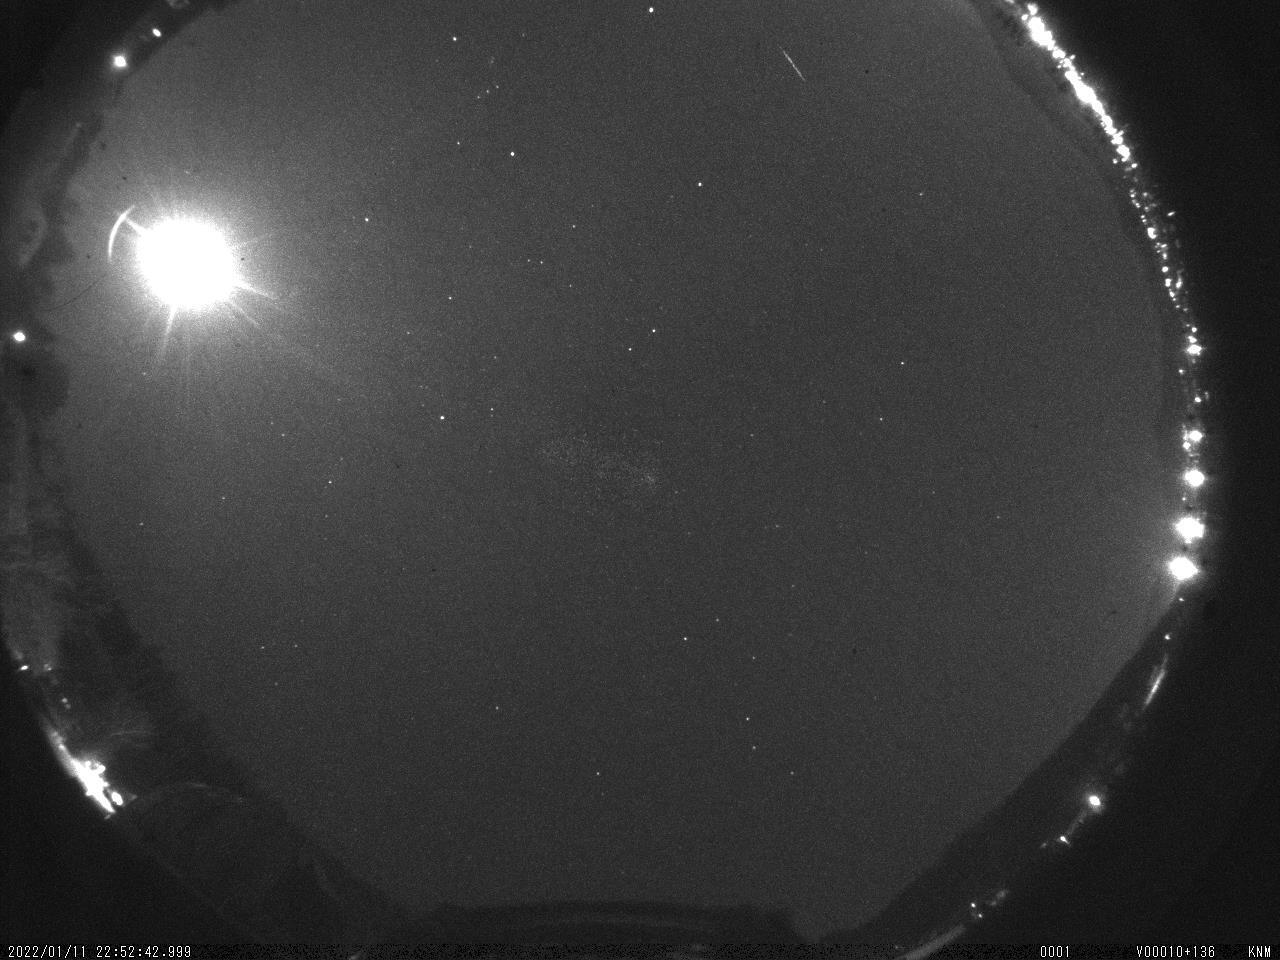Meteor: (774, 39, 814, 92)
